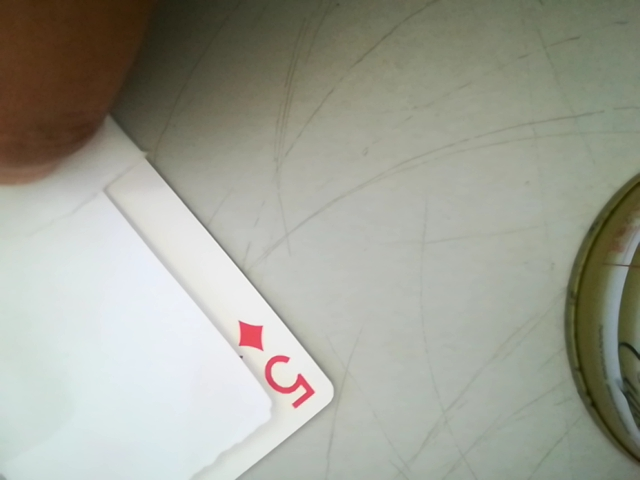fk 5: (227, 310, 321, 422)
